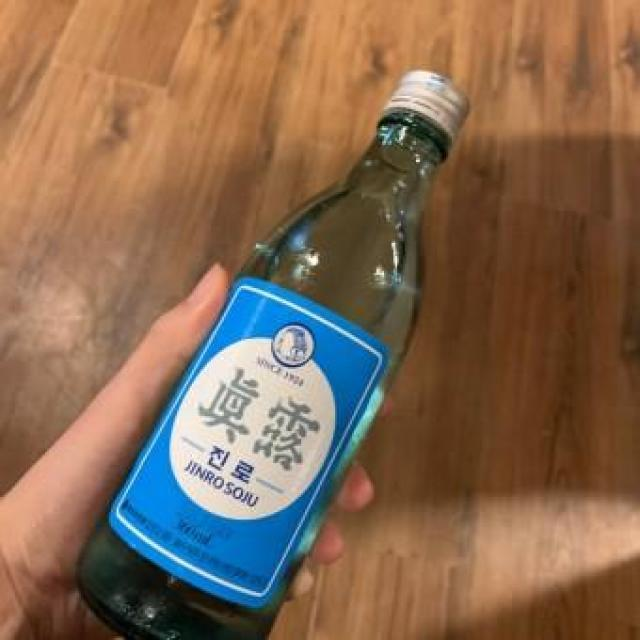soju-bottle: (71, 68, 472, 640)
